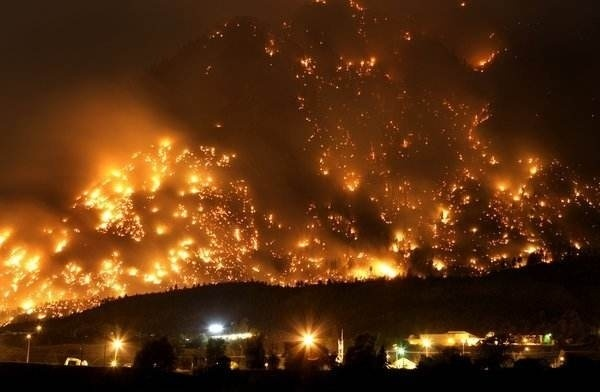fire: (297, 64, 579, 280), (0, 128, 260, 355)
